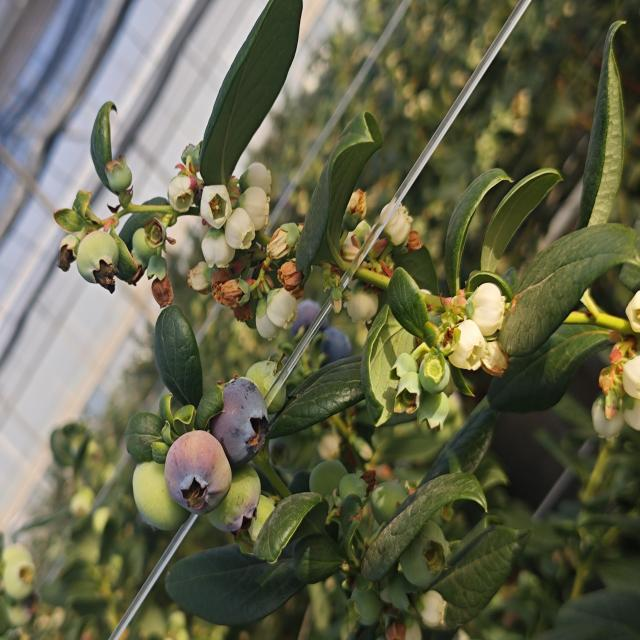ripe: (288, 291, 352, 384), (219, 371, 271, 462)
